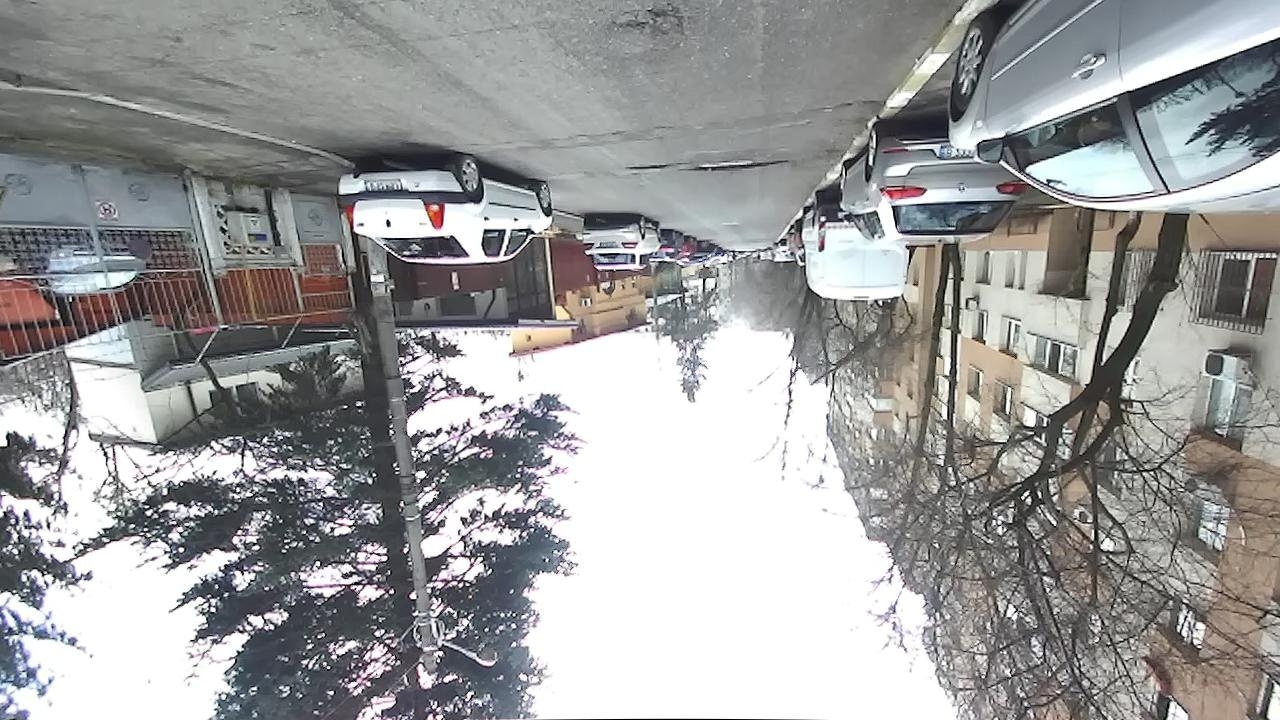pothole: (610, 3, 681, 35), (694, 159, 790, 173), (624, 160, 673, 170)
